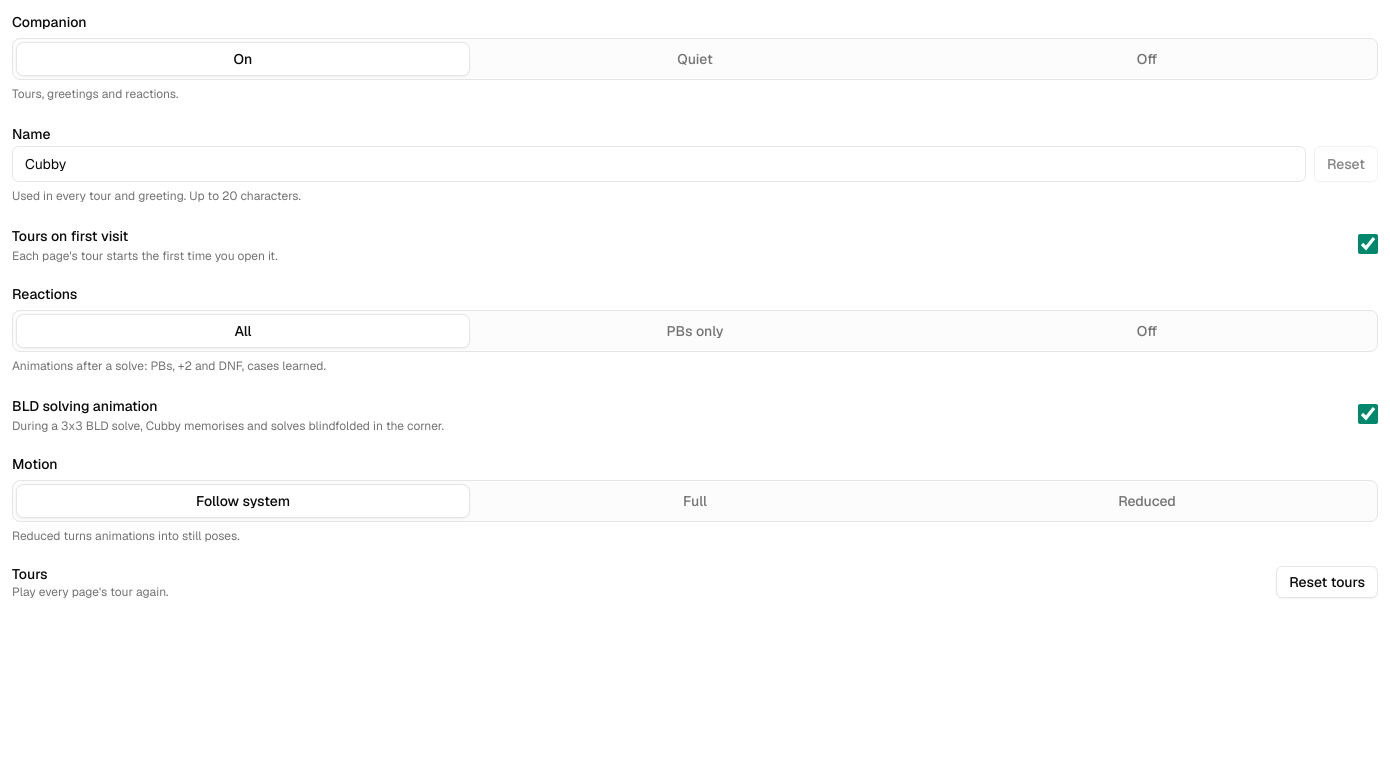
Test: CompanionSettingsForm › switches the mode and saves at once
Step 1. Click the radio button labelled "Quiet" → (695, 59), box [677,50,713,68]
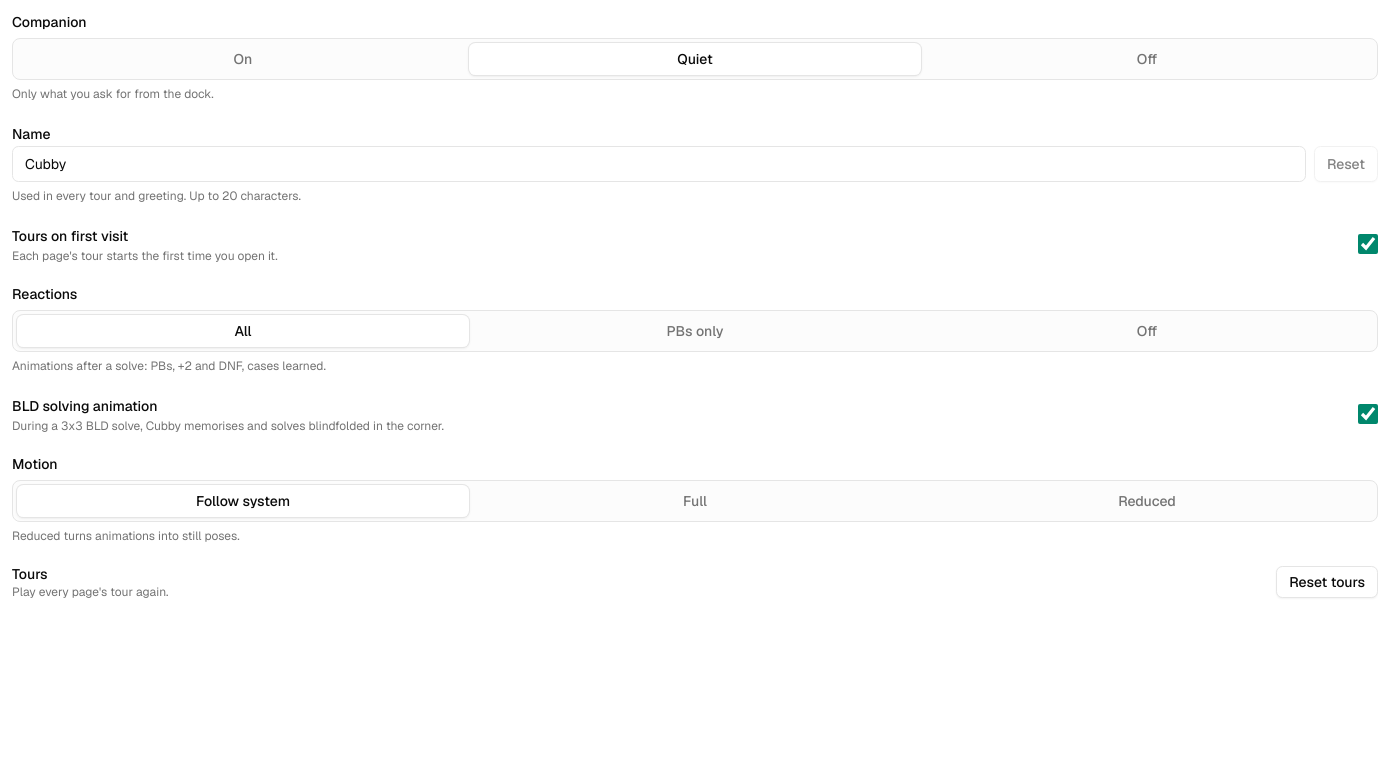
Expected: the text "Only what you ask for from the dock." is shown, [12,86,214,102]
